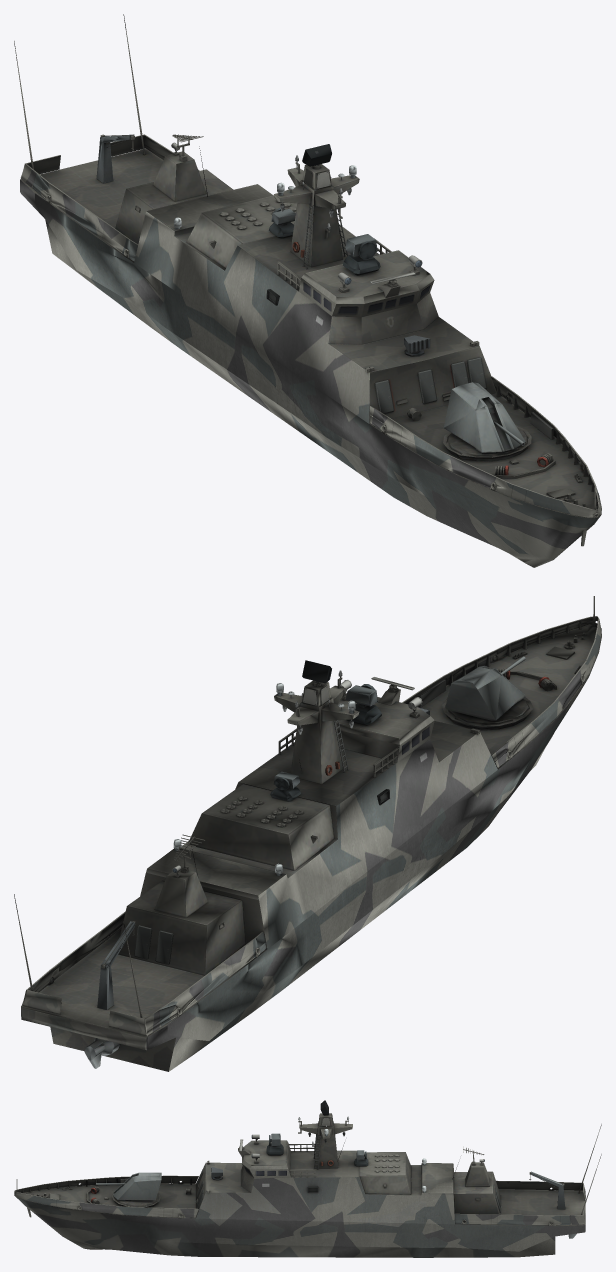
File: korsar.glb
3 renders of one model, top to bottom at view 1: azimuth 30°, elevation 25°; view 2: azimuth 150°, elevation 25°; view 3: azimuth 270°, elevation 25°, orthographic. The views are drawn at different scales.
Parts seen in each view (by area): view 1: 3DSMeshMatrix (×3); view 2: 3DSMeshMatrix (×3); view 3: 3DSMeshMatrix (×3).
Part boxes in pixels (bbox=[...]): 3DSMeshMatrix (×3): bbox=[14, 14, 601, 567]; 3DSMeshMatrix (×3): bbox=[14, 596, 601, 1071]; 3DSMeshMatrix (×3): bbox=[14, 1113, 601, 1257].
Bounding box in the file's own units: 27.36 × 51.23 × 187.
13 materials, 13 textured.
